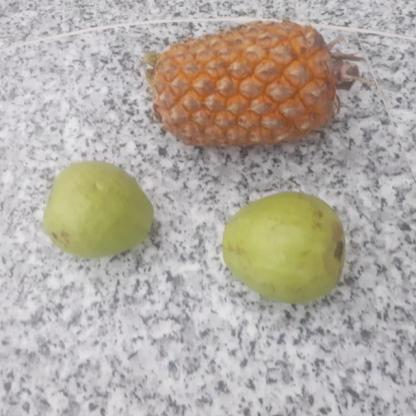guava: (224, 194, 351, 299), (43, 163, 157, 256)
pineapple: (148, 19, 342, 151)
